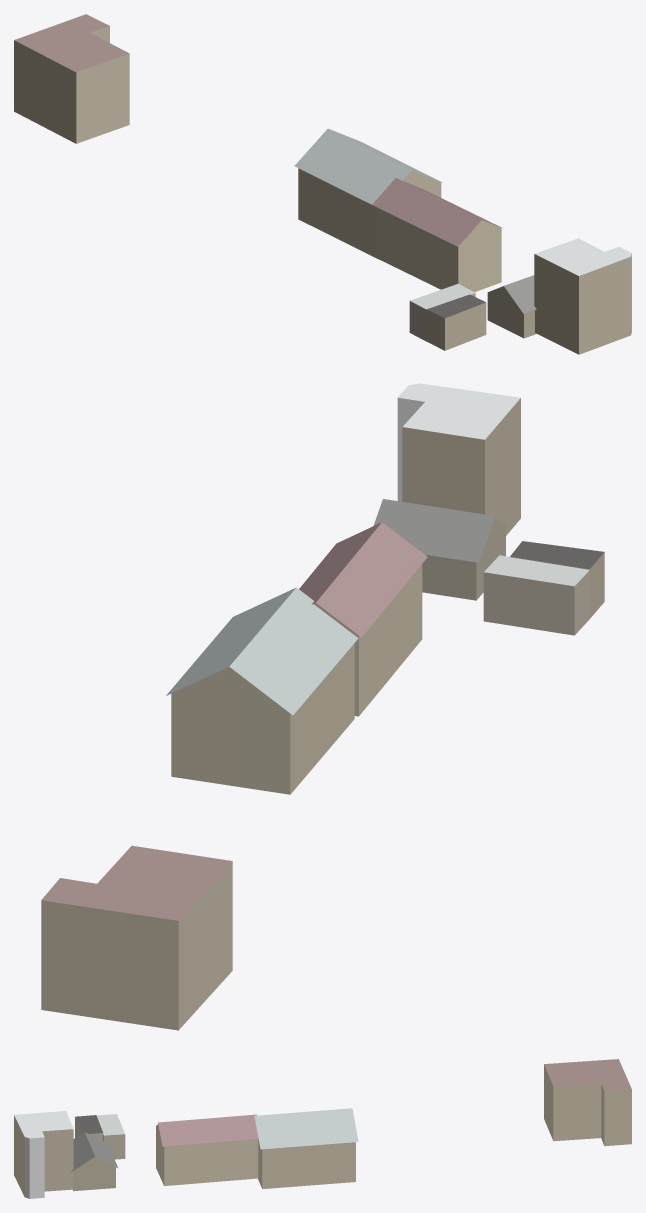
3 views of the same model, one above another, from view 1: azimuth 30°, elevation 25°; view 2: azimuth 150°, elevation 25°; view 3: azimuth 270°, elevation 25° (orthographic). The views are drawn at different scales.
Visible parts, largest first — view 1: tuile; view 2: tuile; view 3: tuile.
Part boxes in pixels (x1=…): tuile: x1=14, y1=14, x2=631, y2=354; tuile: x1=41, y1=383, x2=604, y2=1030; tuile: x1=14, y1=1059, x2=631, y2=1198.
Bounding box in the file's own units: 33 × 11.46 × 98.3.
